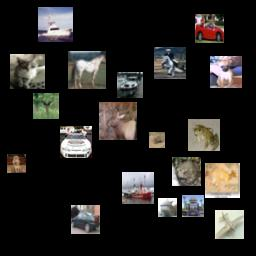airplane: (215, 210, 244, 239)
automobile: (60, 126, 92, 158), (195, 14, 224, 43), (71, 205, 100, 234)
cat: (10, 54, 45, 89), (7, 154, 26, 173)
deer: (99, 102, 137, 140), (205, 163, 240, 198), (33, 93, 59, 119)
dog: (210, 56, 242, 88)
frog: (188, 119, 220, 151), (172, 157, 201, 186), (149, 132, 165, 148)
ship: (38, 7, 73, 42), (122, 172, 154, 204), (117, 72, 143, 98), (158, 198, 177, 217)
truck: (182, 195, 204, 217)
